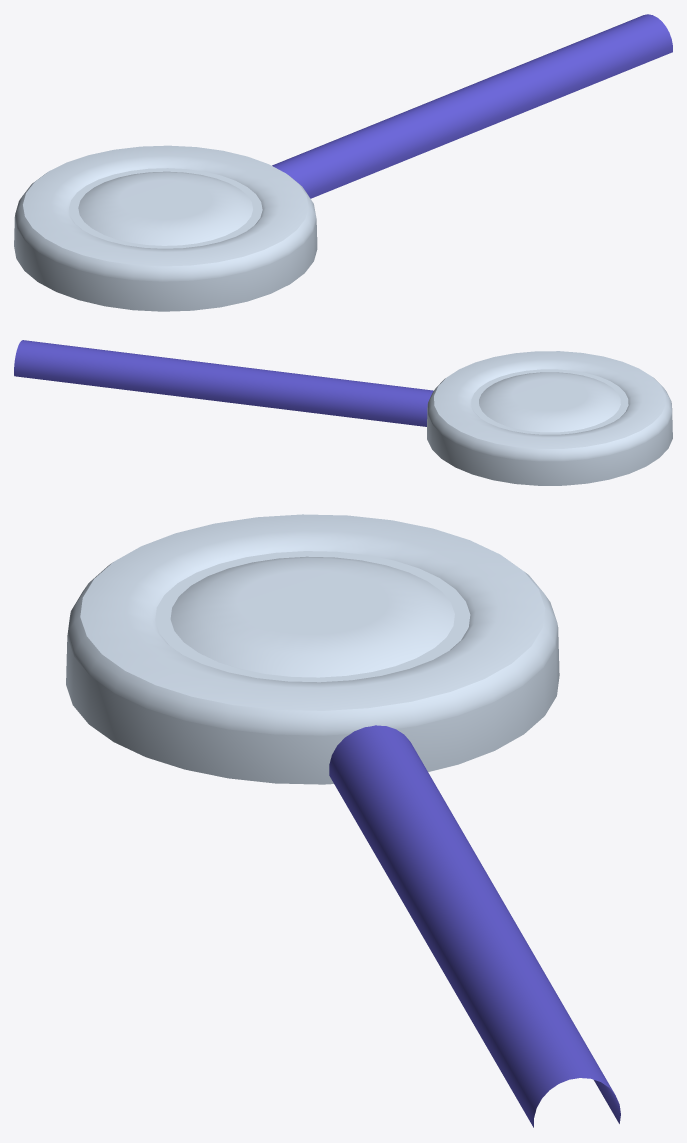
Rendered from Brusher.fbx.
3 views of the same model, one above another, from view 1: azimuth 30°, elevation 25°; view 2: azimuth 150°, elevation 25°; view 3: azimuth 270°, elevation 25° (orthographic). The views are drawn at different scales.
Visible parts, largest first — view 1: Cylinder001, Cylinder003; view 2: Cylinder001, Cylinder003; view 3: Cylinder001, Cylinder003.
Part boxes in pixels (x1,y1,x2,y2): Cylinder001: [14, 145, 317, 311]; Cylinder003: [272, 14, 672, 198]; Cylinder001: [427, 351, 672, 485]; Cylinder003: [14, 340, 433, 426]; Cylinder001: [66, 514, 559, 784]; Cylinder003: [329, 725, 620, 1127].
Bounding box in the file's own units: 132 × 8.56 × 55.38.
